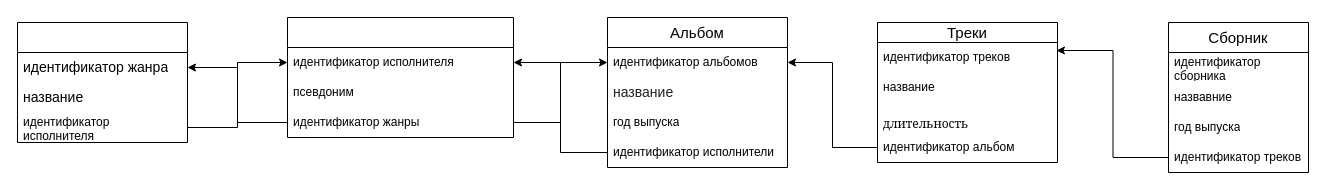
Image size: 1326x190. Some labels were removed from this diagram. Each missing label, with the box of its shape:
Жанры: (16, 22, 188, 142)
Исполнители: (286, 16, 514, 138)
